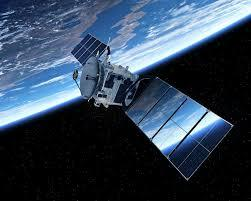antenna: (70, 53, 104, 104)
body: (88, 59, 140, 108)
solar: (123, 74, 237, 183), (69, 31, 112, 68)
